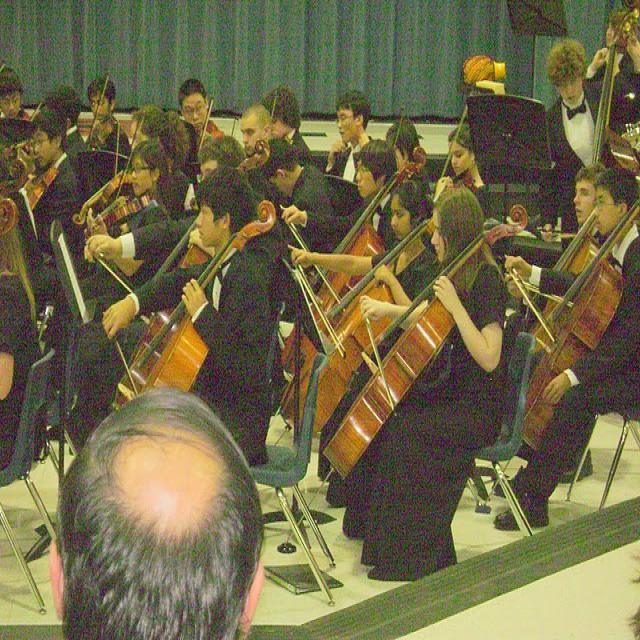cello: (322, 205, 529, 477), (281, 149, 425, 372), (118, 199, 274, 391), (520, 205, 640, 454), (295, 253, 393, 434), (536, 201, 603, 321)
violin: (74, 167, 143, 228), (83, 196, 148, 247), (24, 166, 60, 216), (192, 121, 223, 160), (87, 119, 118, 150)
